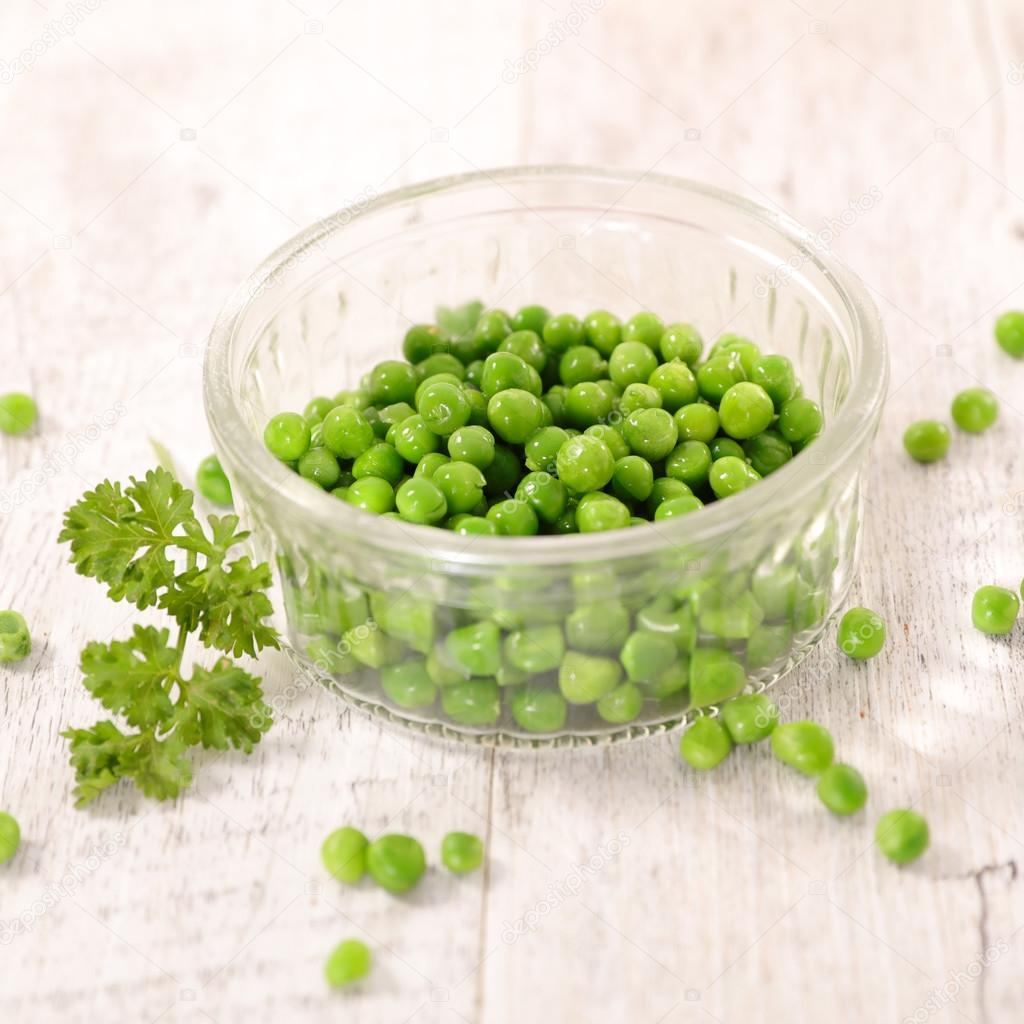boiled peas: (383, 353, 755, 478)
